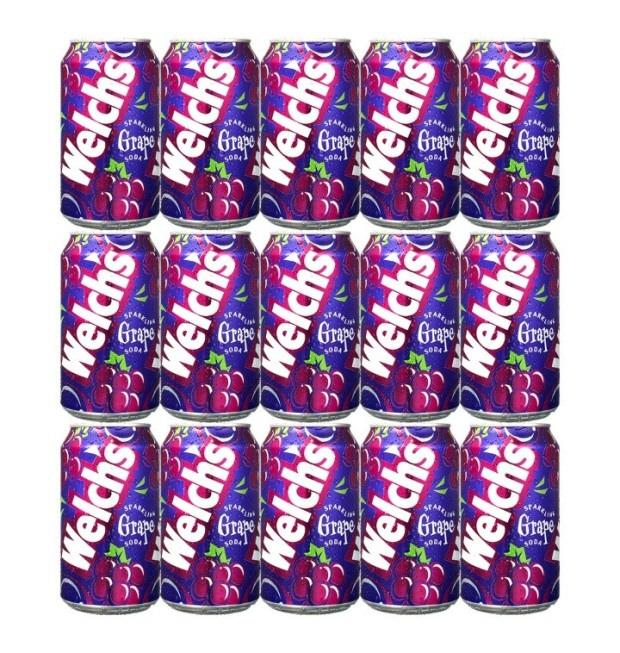welchs_grape: (457, 23, 581, 233), (459, 230, 571, 421), (351, 423, 455, 622), (457, 427, 565, 618), (47, 35, 152, 230), (159, 30, 256, 233), (361, 223, 463, 416), (157, 233, 262, 420), (54, 427, 153, 621), (362, 32, 455, 230), (259, 423, 355, 613), (259, 32, 351, 229), (59, 237, 155, 422), (259, 233, 352, 423), (164, 428, 252, 621)
